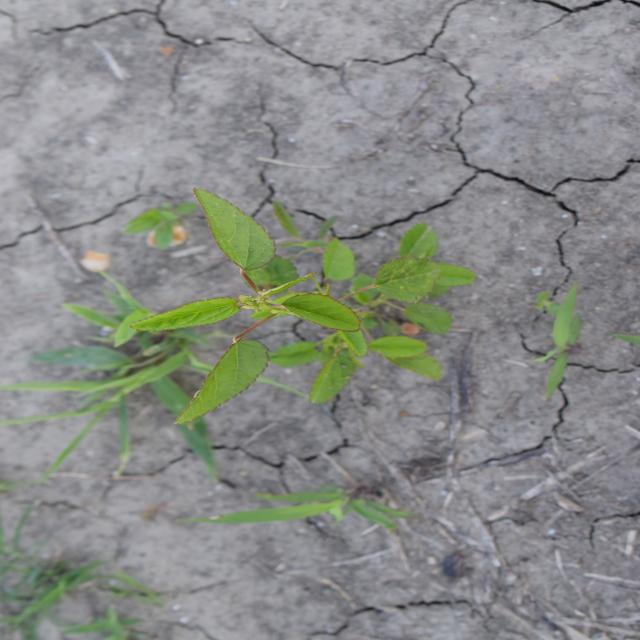PricklySida: (127, 184, 478, 426)
